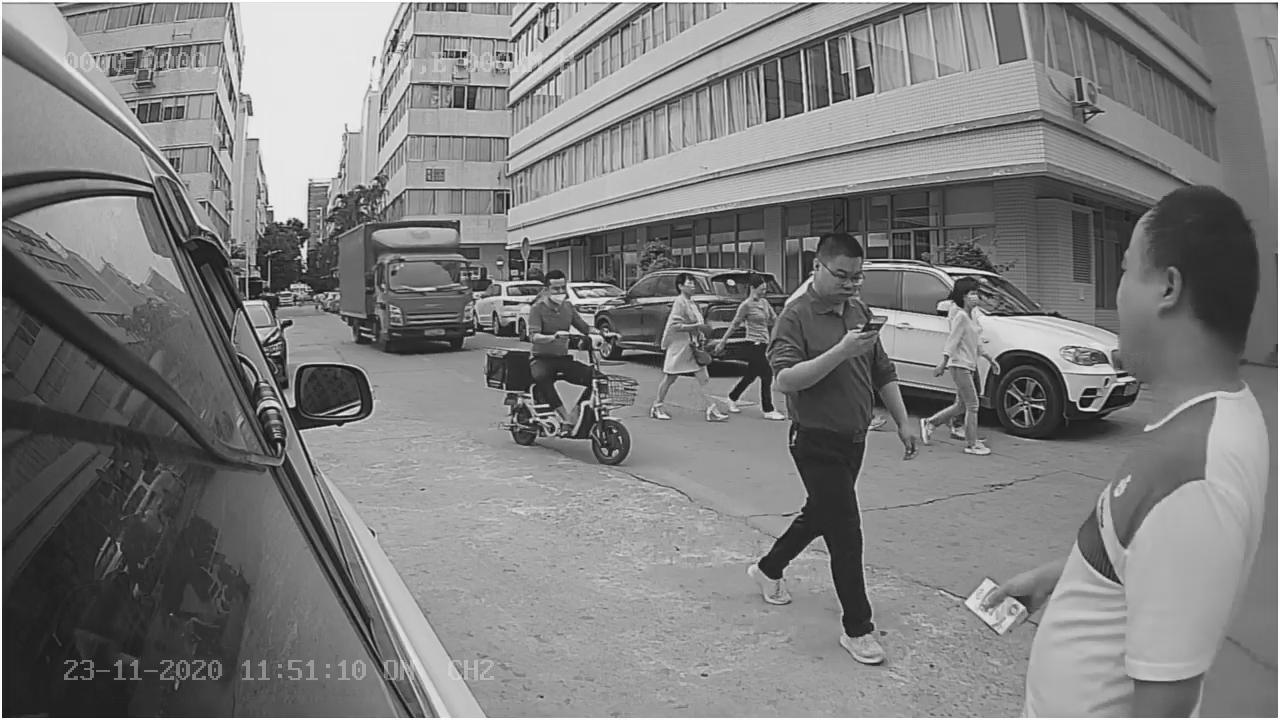person: (743, 227, 916, 669), (643, 257, 728, 428)
